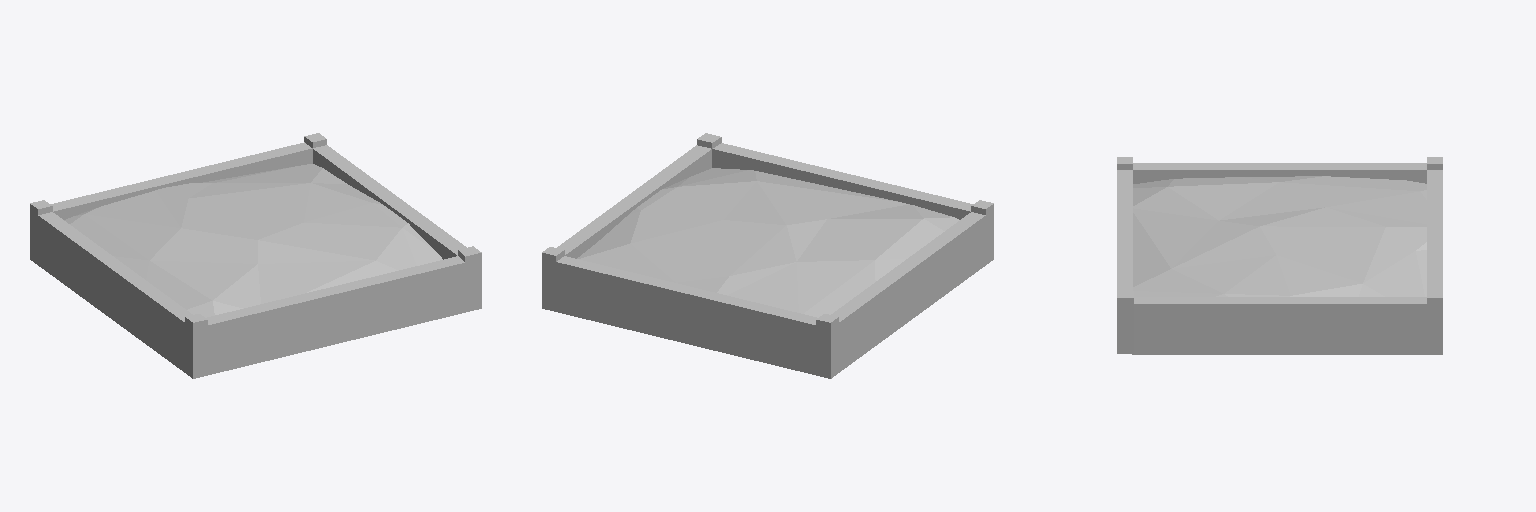
The model's file is seed_plot.obj.
3 views of the same model, side by side, from view 1: azimuth 30°, elevation 25°; view 2: azimuth 150°, elevation 25°; view 3: azimuth 270°, elevation 25° (orthographic).
Parts seen in each view (by area): view 1: Cube, DirtPatch; view 2: Cube, DirtPatch; view 3: DirtPatch, Cube.
Part boxes in pixels (x1,y1,x2,y2): Cube: (30,133,481,378); DirtPatch: (64,164,442,317); Cube: (542,133,993,378); DirtPatch: (577,168,959,317); DirtPatch: (1133,176,1426,296); Cube: (1117,157,1442,354).
Bounding box in the file's own units: 12.05 × 2.24 × 11.81.